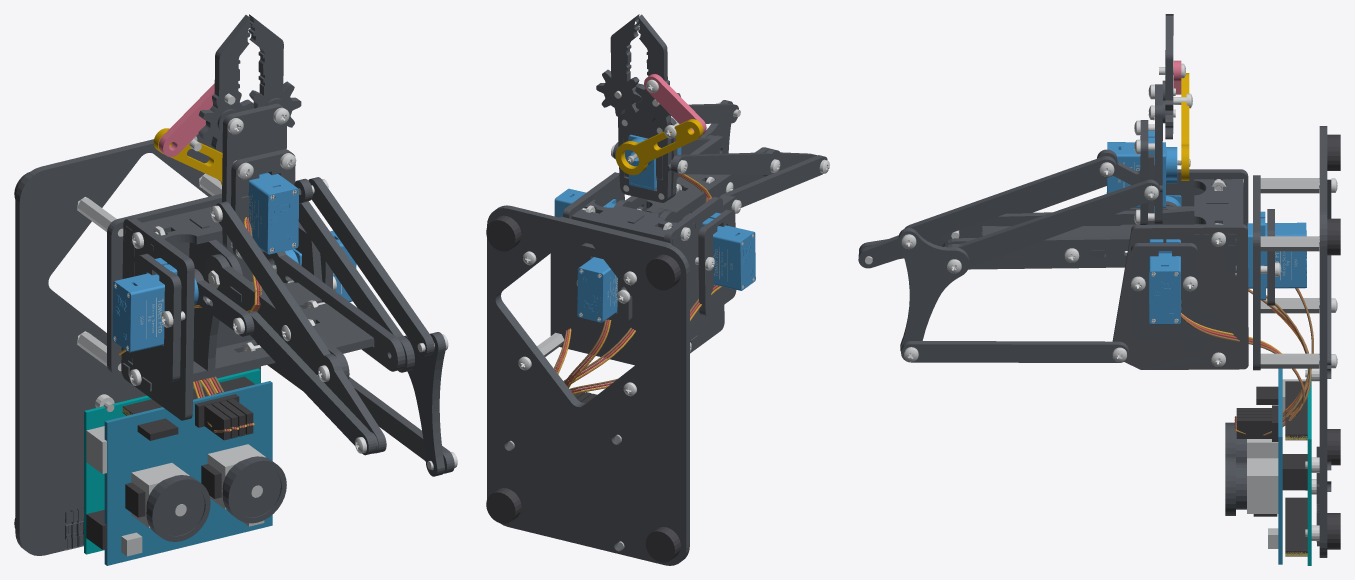
The model's file is braco_completo_com_componentes_v1.glb.
3 renders of one model, left to right at view 1: azimuth 30°, elevation 25°; view 2: azimuth 150°, elevation 25°; view 3: azimuth 270°, elevation 25°, orthographic. The views are drawn at different scales.
Visible parts, largest first — view 1: mecanica_braco_pecas_impressas_pla, printed_01_Base_Chassi_Inferior, shield_2_joysticks_arduino, servos_sg90_4x_azul, arduino_uno_r3, cruzetas_horns_nylon_branco, haste_articulacao_curta_v1, conectores_dupont_femea_shield, haste_articulacao_olhal_v1, chicote_cabos_fita_3_vias, espacador_metalico_m3_24mm_4, espacador_metalico_m3_24mm_2; view 2: printed_01_Base_Chassi_Inferior, mecanica_braco_pecas_impressas_pla, servos_sg90_4x_azul, cruzetas_horns_nylon_branco, chicote_cabos_fita_3_vias, haste_articulacao_olhal_v1, haste_articulacao_curta_v1, pe_tpu_4, pe_tpu_2, pe_tpu_3, pe_tpu_1; view 3: mecanica_braco_pecas_impressas_pla, servos_sg90_4x_azul, shield_2_joysticks_arduino, arduino_uno_r3, printed_01_Base_Chassi_Inferior, cruzetas_horns_nylon_branco, chicote_cabos_fita_3_vias, conectores_dupont_femea_shield, espacador_metalico_m3_24mm_4, espacador_metalico_m3_24mm_3, espacador_metalico_m3_24mm_1, haste_articulacao_olhal_v1 (+1 smaller).
Boxes of the visible parts, box(x1,y1,x2,y2) form: mecanica_braco_pecas_impressas_pla: box(65, 14, 454, 550); printed_01_Base_Chassi_Inferior: box(15, 133, 260, 555); shield_2_joysticks_arduino: box(104, 381, 286, 565); servos_sg90_4x_azul: box(112, 172, 356, 352); arduino_uno_r3: box(84, 368, 260, 554); cruzetas_horns_nylon_branco: box(76, 93, 457, 469); haste_articulacao_curta_v1: box(158, 83, 214, 156); conectores_dupont_femea_shield: box(204, 398, 253, 440); haste_articulacao_olhal_v1: box(153, 128, 222, 185); chicote_cabos_fita_3_vias: box(118, 217, 261, 432); espacador_metalico_m3_24mm_4: box(77, 198, 116, 231); espacador_metalico_m3_24mm_2: box(77, 332, 107, 366); printed_01_Base_Chassi_Inferior: box(487, 205, 689, 565); mecanica_braco_pecas_impressas_pla: box(495, 14, 827, 551); servos_sg90_4x_azul: box(554, 122, 755, 322); cruzetas_horns_nylon_branco: box(518, 79, 829, 396); chicote_cabos_fita_3_vias: box(554, 173, 721, 394); haste_articulacao_olhal_v1: box(615, 119, 703, 175); haste_articulacao_curta_v1: box(644, 74, 706, 134); pe_tpu_4: box(486, 215, 521, 251); pe_tpu_2: box(486, 488, 521, 523); pe_tpu_3: box(645, 254, 680, 290); pe_tpu_1: box(645, 527, 680, 562); mecanica_braco_pecas_impressas_pla: box(858, 14, 1331, 546); servos_sg90_4x_azul: box(1106, 131, 1306, 324); shield_2_joysticks_arduino: box(1225, 368, 1307, 564); arduino_uno_r3: box(1282, 368, 1319, 565); printed_01_Base_Chassi_Inferior: box(1319, 126, 1327, 557); cruzetas_horns_nylon_branco: box(865, 63, 1337, 368); chicote_cabos_fita_3_vias: box(1181, 274, 1313, 435); conectores_dupont_femea_shield: box(1236, 408, 1271, 438); espacador_metalico_m3_24mm_4: box(1260, 178, 1319, 193); espacador_metalico_m3_24mm_3: box(1260, 236, 1319, 251); espacador_metalico_m3_24mm_1: box(1260, 353, 1319, 368); haste_articulacao_olhal_v1: box(1181, 73, 1189, 180).
Size of the model in its own units: 95.19 by 216 by 184.
